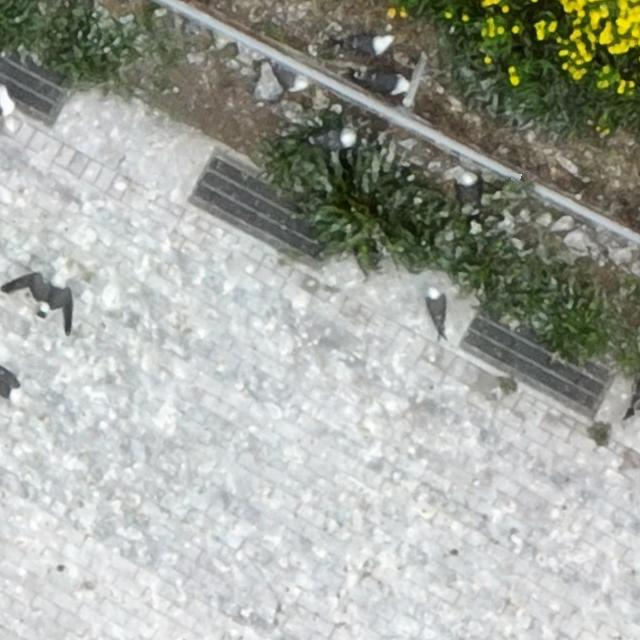F: (34, 274, 68, 329)
umineko: (357, 70, 407, 94), (311, 128, 355, 148), (272, 66, 304, 90), (459, 171, 479, 208), (351, 35, 389, 54), (428, 292, 445, 331), (1, 372, 19, 396)
